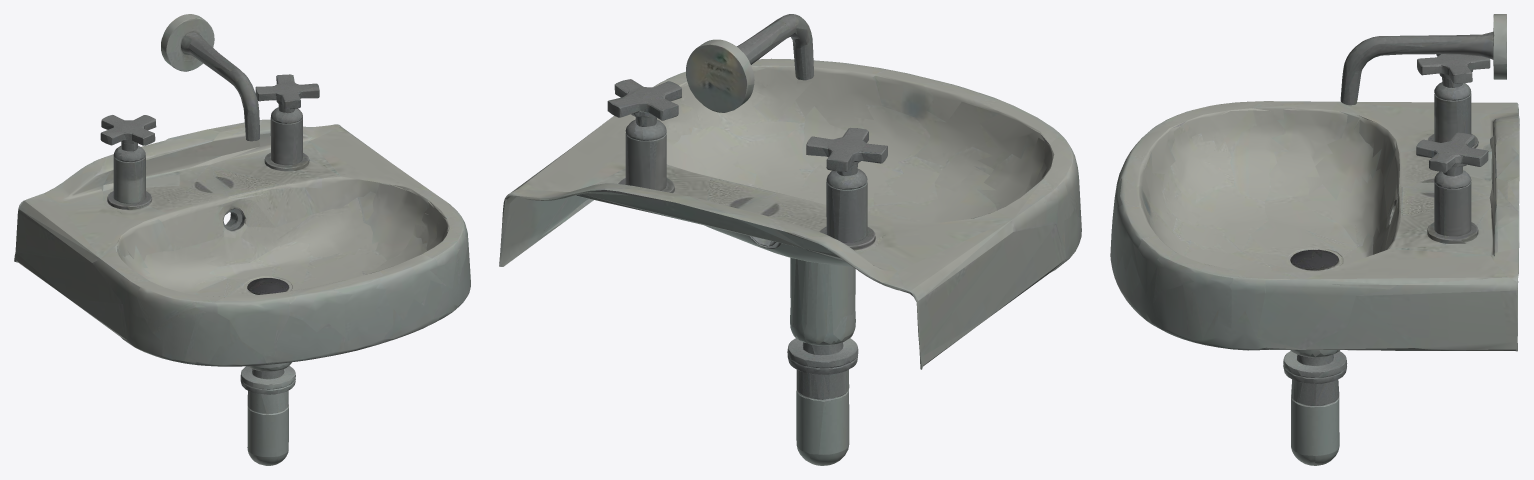
The model's file is lavandino_B.glb.
3 views of the same model, side by side, from view 1: azimuth 30°, elevation 25°; view 2: azimuth 150°, elevation 25°; view 3: azimuth 270°, elevation 25° (orthographic). The views are drawn at different scales.
Parts seen in each view (by area): view 1: Mesh_0; view 2: Mesh_0; view 3: Mesh_0.
Part boxes in pixels (x1,y1,x2,y2): Mesh_0: (14,14,470,465); Mesh_0: (499,14,1081,465); Mesh_0: (1110,14,1519,465).
Bounding box in the file's own units: 0.55 × 0.6151 × 0.5116.
Materials: 1 (1 with a texture image).
